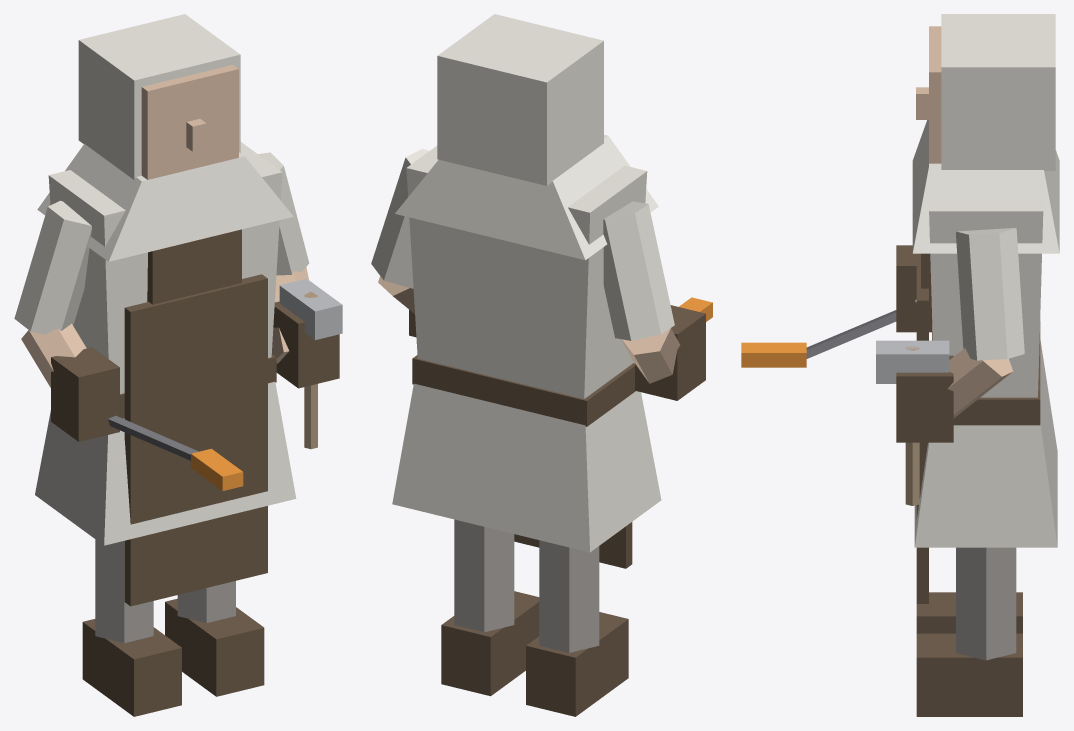
Rendered from char_blacksmith.glb.
3 views of the same model, side by side, from view 1: azimuth 30°, elevation 25°; view 2: azimuth 150°, elevation 25°; view 3: azimuth 270°, elevation 25° (orthographic). The views are drawn at different scales.
Visible parts, largest first — view 1: char_blacksmith; view 2: char_blacksmith; view 3: char_blacksmith.
Part boxes in pixels (x1,y1,x2,y2): char_blacksmith: (14,14,342,716); char_blacksmith: (371,14,712,716); char_blacksmith: (741,14,1059,716).
Size of the model in its own units: 0.8208 by 1.74 by 0.78.
